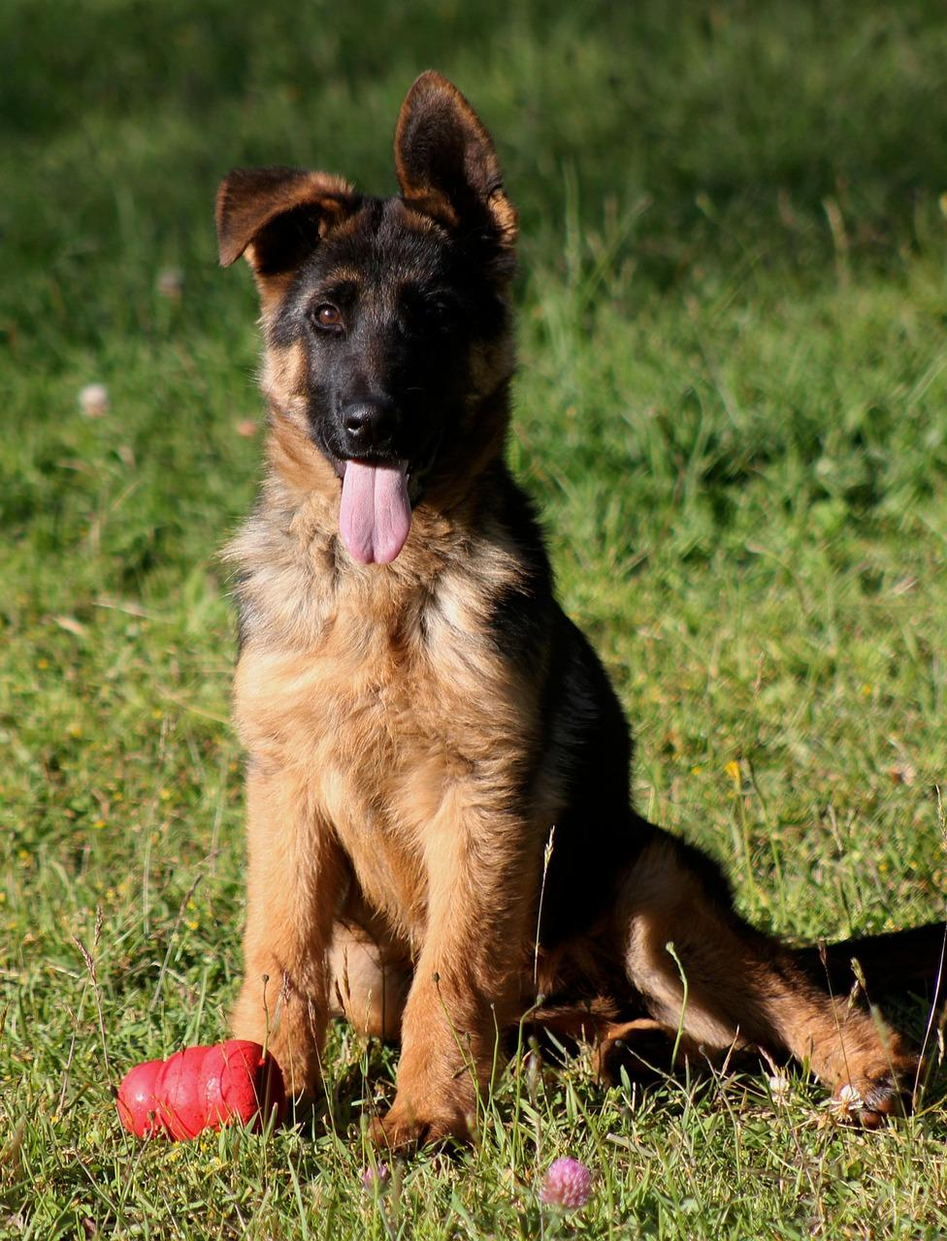german_shepherd: (204, 132, 551, 532)
